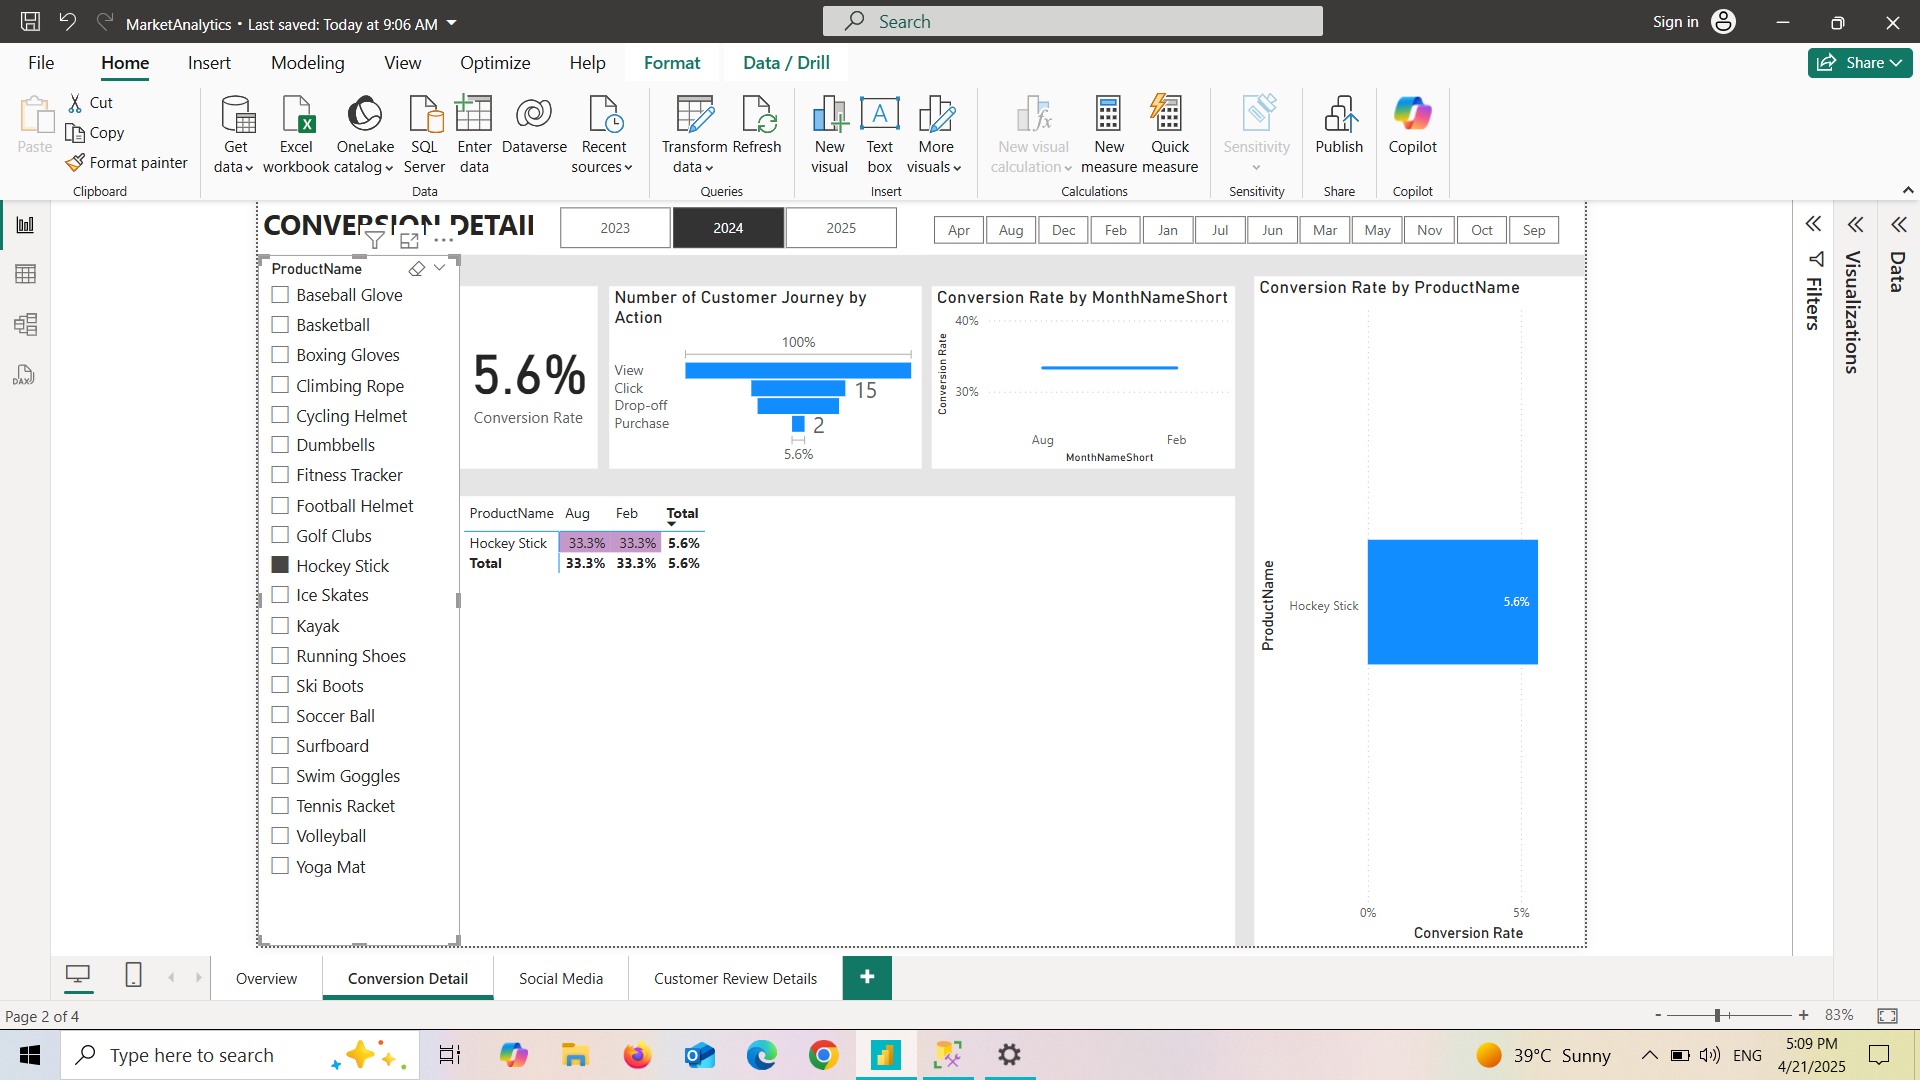

The dashboard page shown, as its layout file describes it:
{"tool":"powerbi","page":{"name":"Conversion Detail","canvas":[1280,720],"ordinal":1},"visuals":[{"type":"textbox","box":[0,0,1280,53.1],"z":0},{"type":"slicer","fields":{"Values":["dm_products.ProductName"]},"box":[0,53.1,194.2,667.2],"z":1000},{"type":"card","fields":{"Values":["_Calculations.Conversion Rate"]},"box":[194.2,83.2,133.9,176.1],"z":2000},{"type":"slicer","fields":{"Values":["Calendar.Year"]},"box":[265.4,0,375.2,53.1],"z":3000},{"type":"slicer","fields":{"Values":["Calendar.MonthNameShort"]},"box":[626.1,8.4,653.9,36.2],"z":4000},{"type":"clusteredBarChart","fields":{"Category":["dm_products.ProductName"],"Y":["_Calculations.Conversion Rate"]},"box":[961.5,73.6,318.5,646.7],"z":5000},{"type":"lineChart","fields":{"Y":["_Calculations.Conversion Rate"],"Category":["Calendar.MonthNameShort"]},"box":[650.3,83.2,293.2,176.1],"z":6000},{"type":"pivotTable","fields":{"Values":["_Calculations.Conversion Rate"],"Rows":["dm_products.ProductName"],"Columns":["Calendar.MonthNameShort"]},"box":[194.2,285.9,749.2,434.3],"z":7000},{"type":"funnel","fields":{"Y":["_Calculations.Number of Customer Journey"],"Category":["fact_customer_journey.Action"]},"box":[339,83.2,301.6,176.1],"z":8000}]}

Visuals, with their boxes on the page's 1280x720 design canvas (x1, y1, x2, y2). These are canvas units, not pixel positions in the 1920x1080 screenshot, which may show the page scaled, cropped or inside an application window:
textbox: box(0, 0, 1280, 53)
slicer - dm_products.ProductName: box(0, 53, 194, 720)
card - _Calculations.Conversion Rate: box(194, 83, 328, 259)
slicer - Calendar.Year: box(265, 0, 641, 53)
slicer - Calendar.MonthNameShort: box(626, 8, 1280, 45)
clusteredBarChart - dm_products.ProductName x _Calculations.Conversion Rate: box(962, 74, 1280, 720)
lineChart - _Calculations.Conversion Rate x Calendar.MonthNameShort: box(650, 83, 944, 259)
pivotTable - _Calculations.Conversion Rate x dm_products.ProductName: box(194, 286, 943, 720)
funnel - _Calculations.Number of Customer Journey x fact_customer_journey.Action: box(339, 83, 641, 259)
